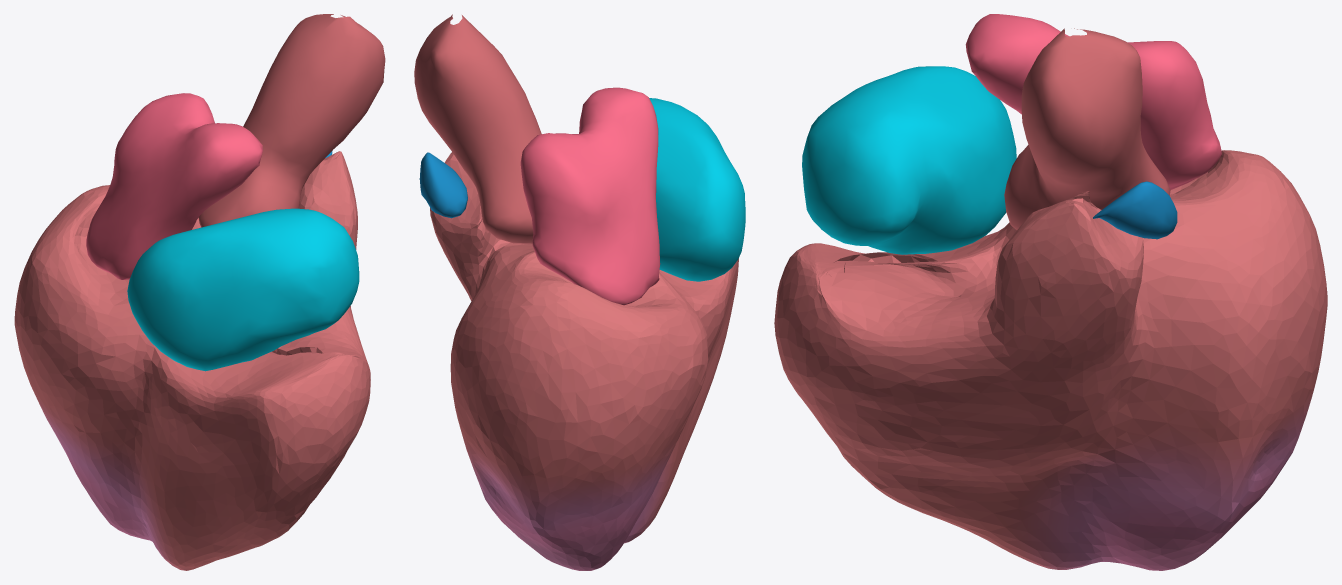
The model's file is frame_40.glb.
3 renders of one model, left to right at view 1: azimuth 30°, elevation 25°; view 2: azimuth 150°, elevation 25°; view 3: azimuth 270°, elevation 25°, orthographic. The views are drawn at different scales.
Parts seen in each view (by area): view 1: Renderer Node; view 2: Renderer Node; view 3: Renderer Node.
Boxes of the visible parts, x1=… form: Renderer Node: x1=14, y1=14, x2=385, y2=570; Renderer Node: x1=414, y1=14, x2=745, y2=570; Renderer Node: x1=774, y1=14, x2=1327, y2=570.
Size of the model in its own units: 102 by 158 by 124.
